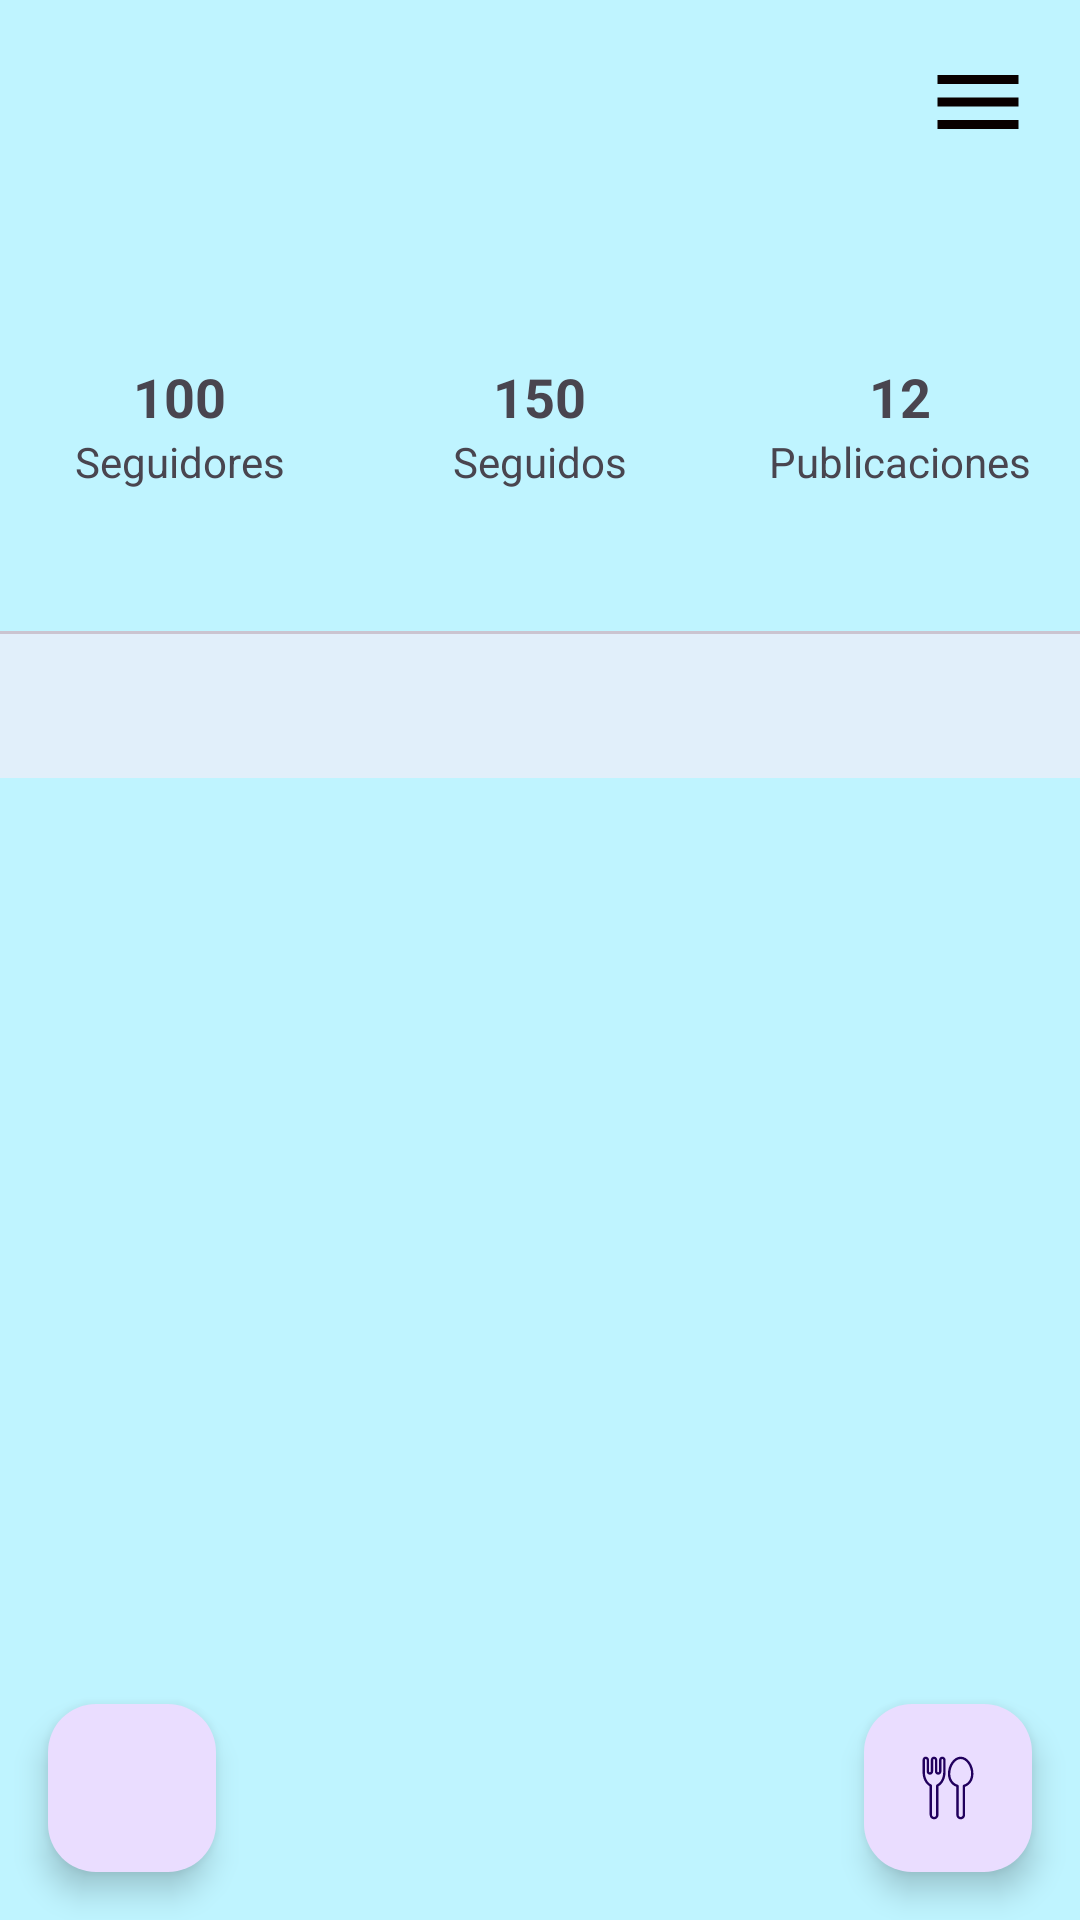

Screen size 1080px x 1920px. Icon name, then its center in pixels as [x,y]:
Menú: [978,102]
Nueva comida: [948,1788]
